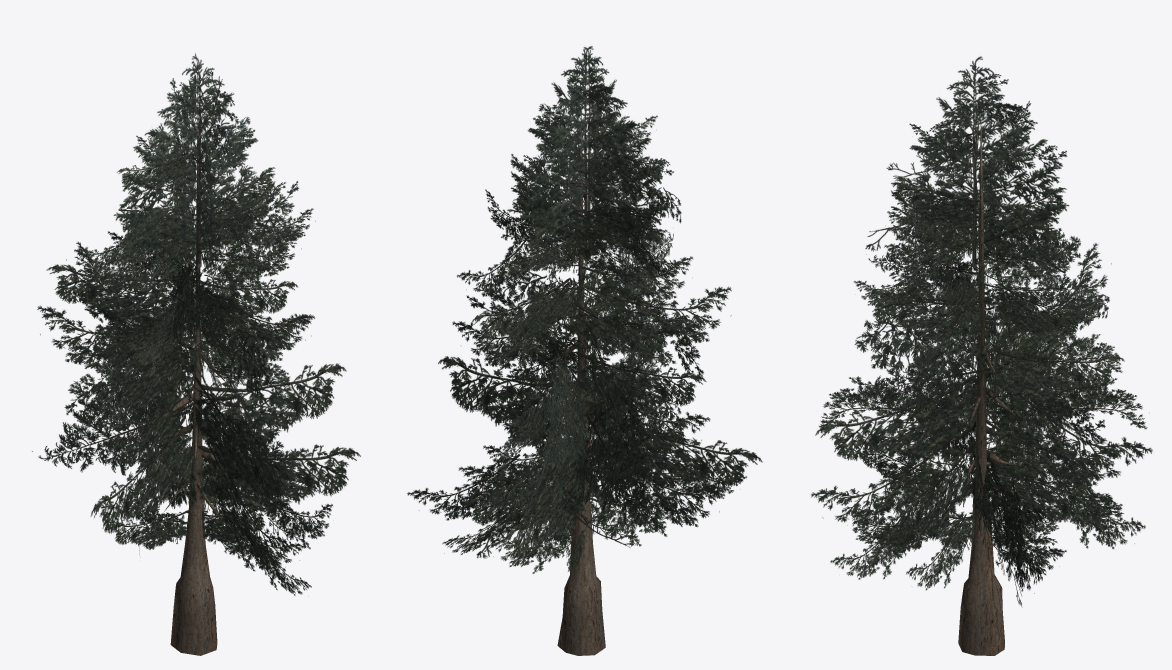
File: tree09.glb
The picture shows the model from 3 angles, left to right: view 1: azimuth 30°, elevation 25°; view 2: azimuth 150°, elevation 25°; view 3: azimuth 270°, elevation 25°; orthographic projection.
Visible parts, largest first — view 1: Tree_Branches_01.002_Tree_Branches_01_0, Tree_Trunk_01.002_Tree_Trunk_01_0; view 2: Tree_Branches_01.002_Tree_Branches_01_0, Tree_Trunk_01.002_Tree_Trunk_01_0; view 3: Tree_Branches_01.002_Tree_Branches_01_0, Tree_Trunk_01.002_Tree_Trunk_01_0.
Part boxes in pixels (x1,y1,x2,y2): Tree_Branches_01.002_Tree_Branches_01_0: [32, 53, 360, 595]; Tree_Trunk_01.002_Tree_Trunk_01_0: [149, 114, 232, 655]; Tree_Branches_01.002_Tree_Branches_01_0: [407, 46, 762, 578]; Tree_Trunk_01.002_Tree_Trunk_01_0: [544, 106, 619, 655]; Tree_Branches_01.002_Tree_Branches_01_0: [811, 56, 1152, 607]; Tree_Trunk_01.002_Tree_Trunk_01_0: [940, 113, 1028, 655].
Size of the model in its own units: 10.06 by 18.55 by 10.07.
2 materials, 2 textured.
